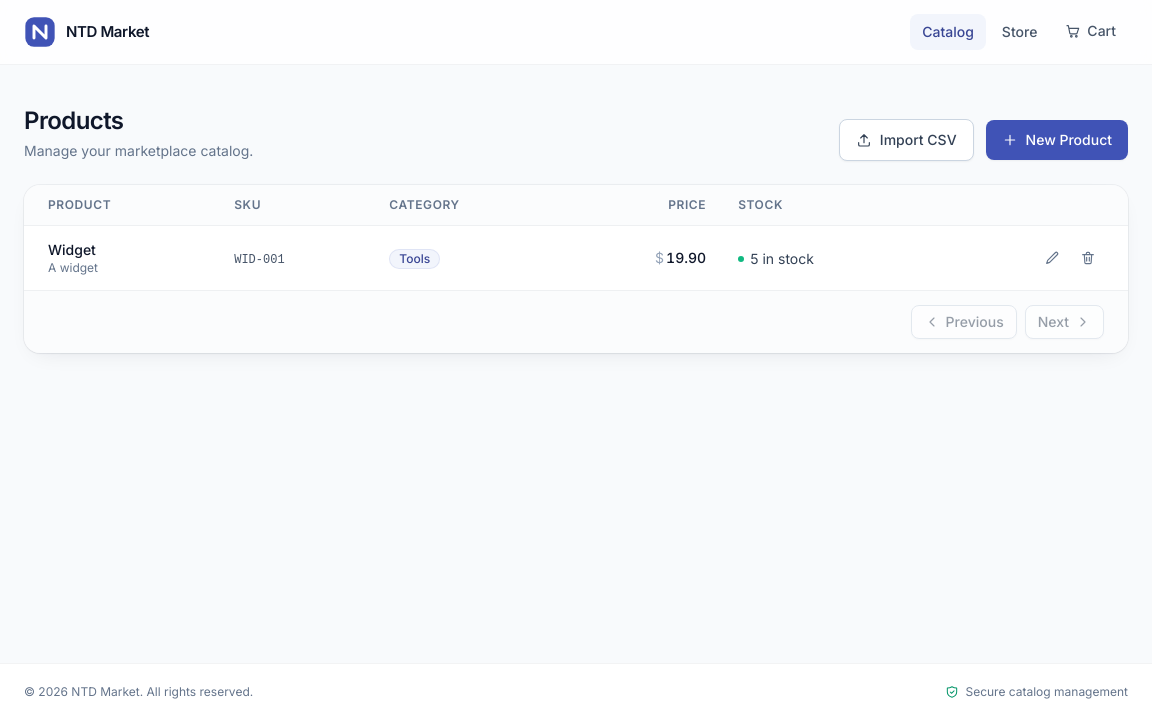
Test case: ProductListPage › removes a product from the list after a confirmed delete
This screenshot has width=1152, height=720.
Expected: the text "Widget" is shown, [48, 241, 96, 258]
Click the button named "Delete". click: coordinates (1088, 258)
box: [1072, 242, 1104, 274]
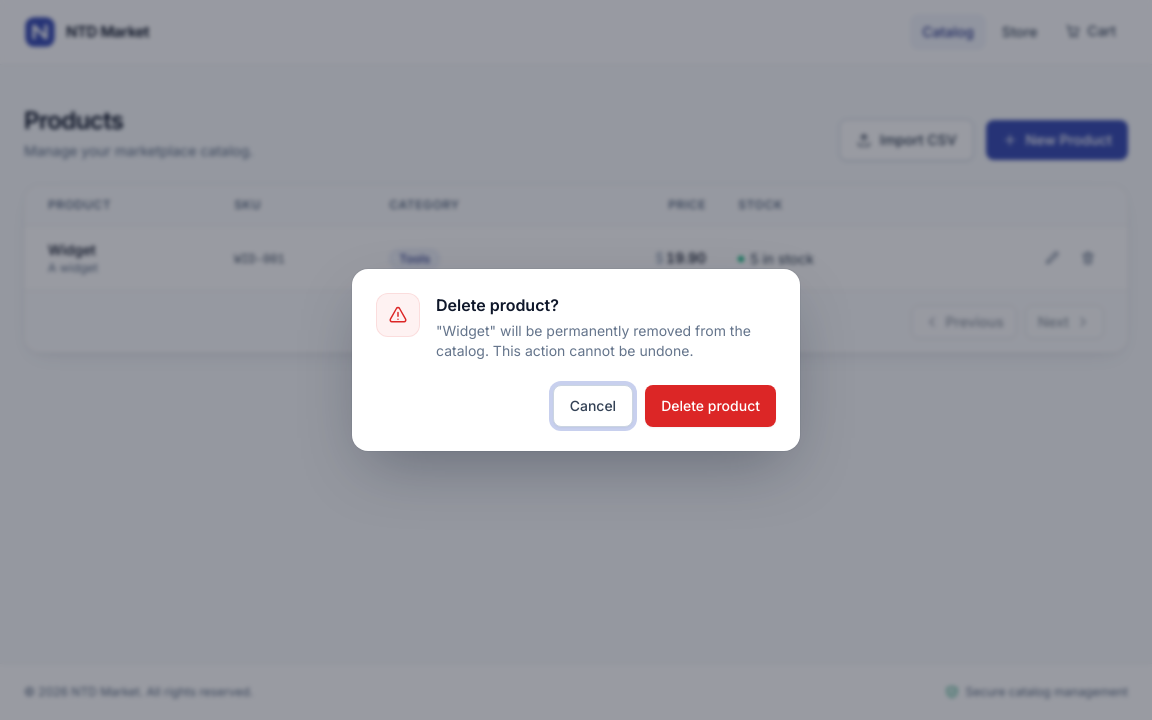
Click the button "Delete product". click: coordinates (711, 406)
box: [645, 385, 776, 427]
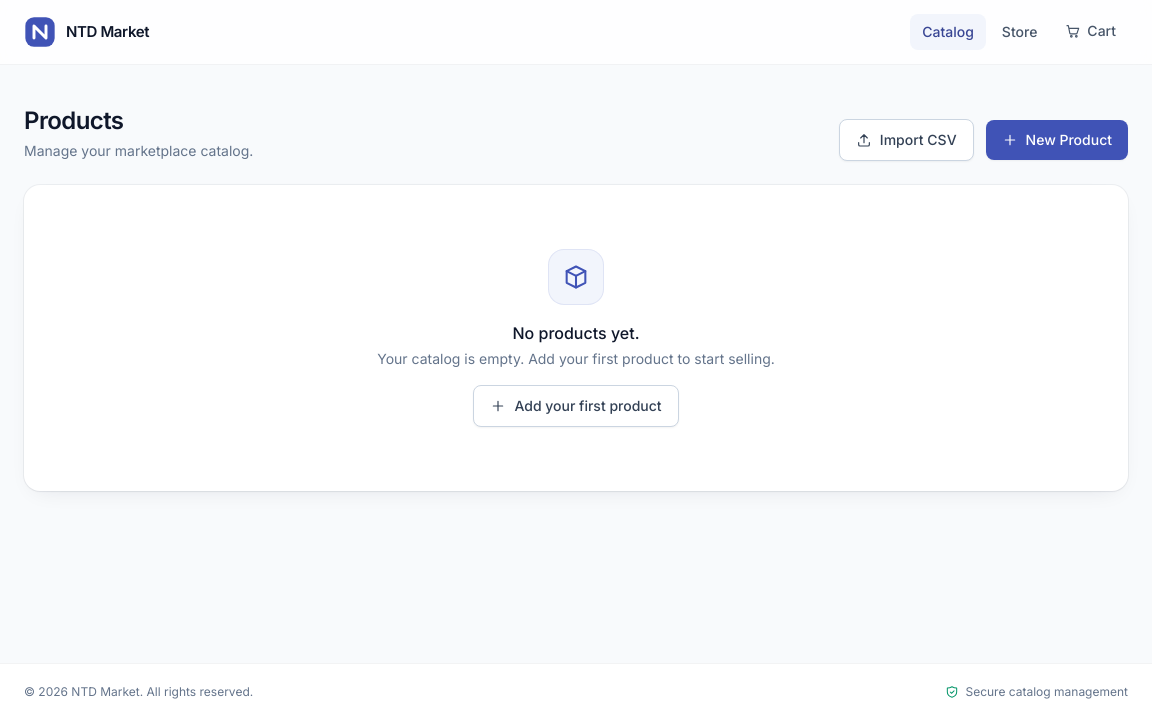
Expected: the text "Widget" is gone
Expected: the text "No products yet." is shown, [512, 323, 640, 343]
